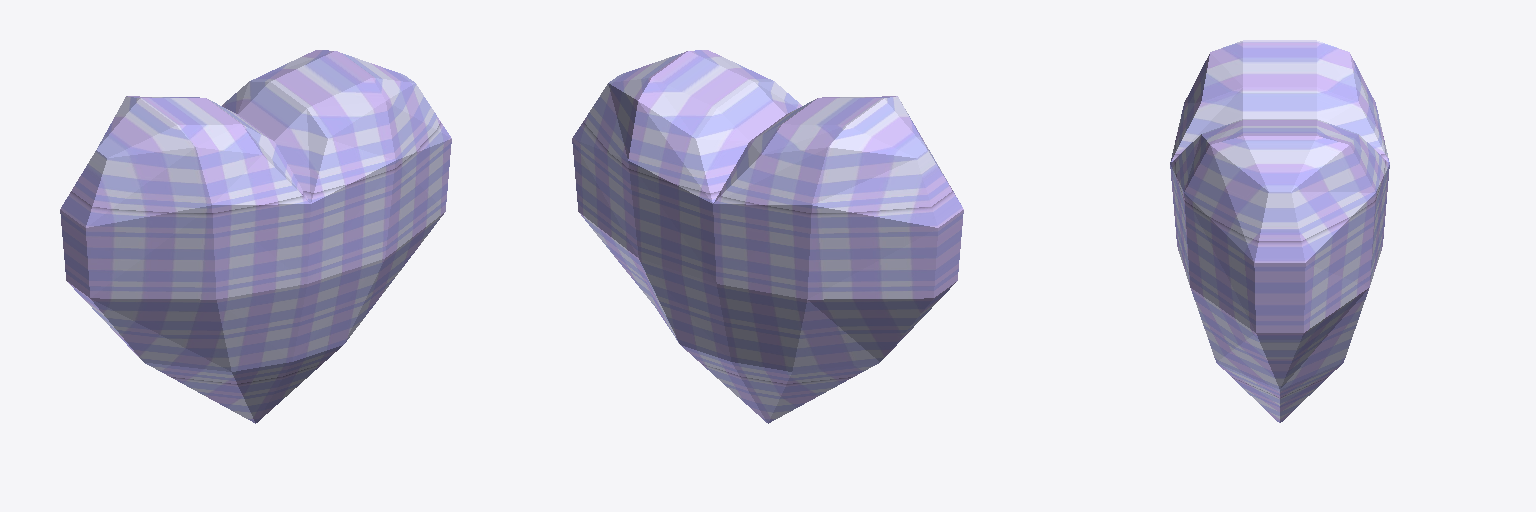
3 views of the same model, side by side, from view 1: azimuth 30°, elevation 25°; view 2: azimuth 150°, elevation 25°; view 3: azimuth 270°, elevation 25° (orthographic).
Visible parts, largest first — view 1: Heart; view 2: Heart; view 3: Heart.
Boxes of the visible parts, <box> form: Heart: <box>60,50,451,423</box>; Heart: <box>572,50,963,423</box>; Heart: <box>1170,40,1389,422</box>.
Bounding box in the file's own units: 15.53 × 13.61 × 8.08.
Materials: 1 (1 with a texture image).